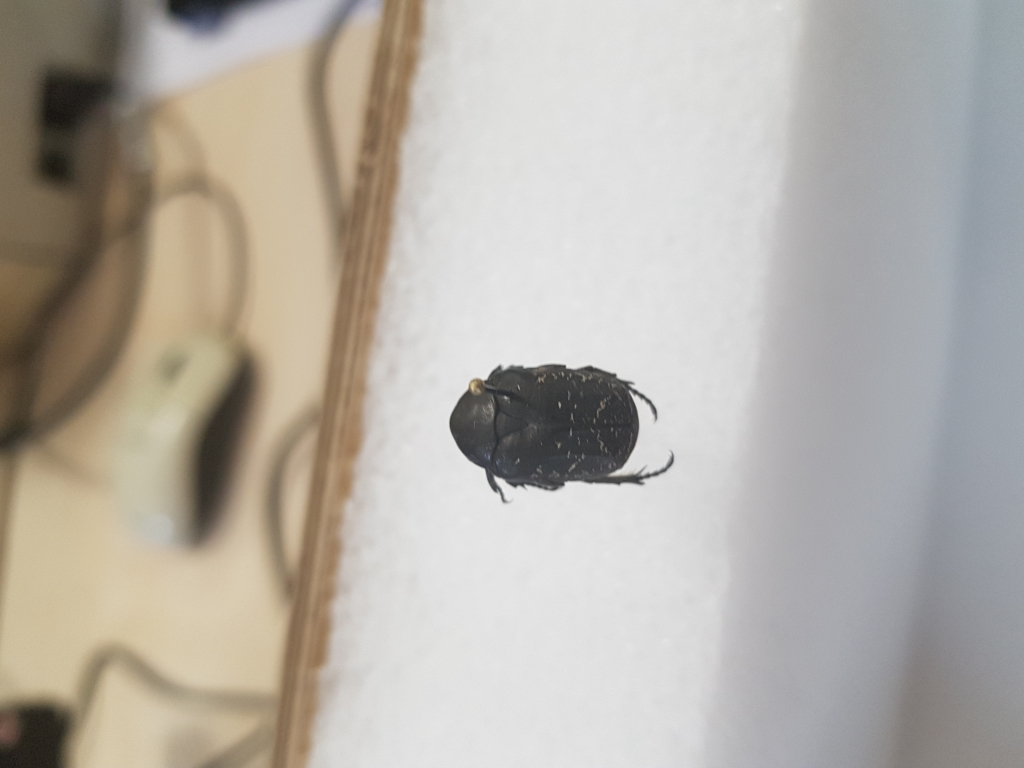Protaetia_oblonga: (445, 347, 677, 509)
